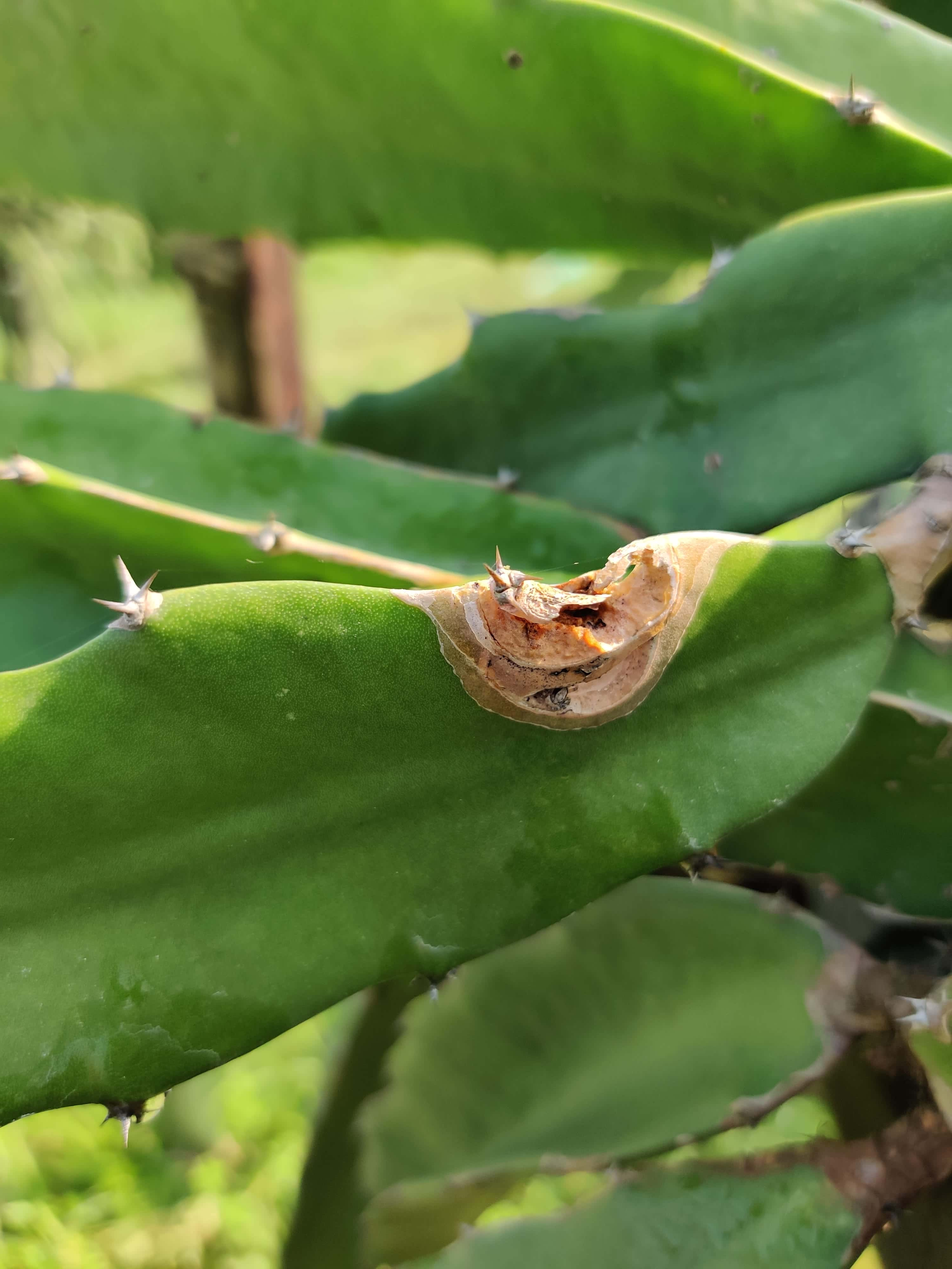stemcanker: (387, 530, 739, 732)
